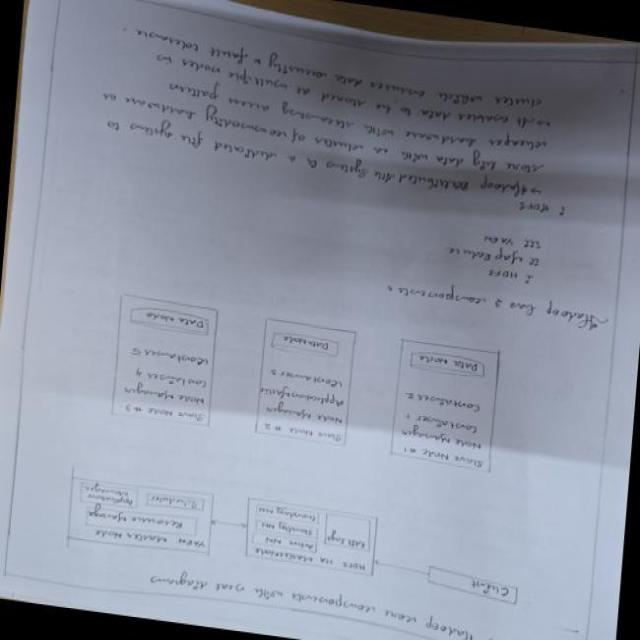Figure Detection - v3 Dataset Version2: (51, 269, 568, 623)
